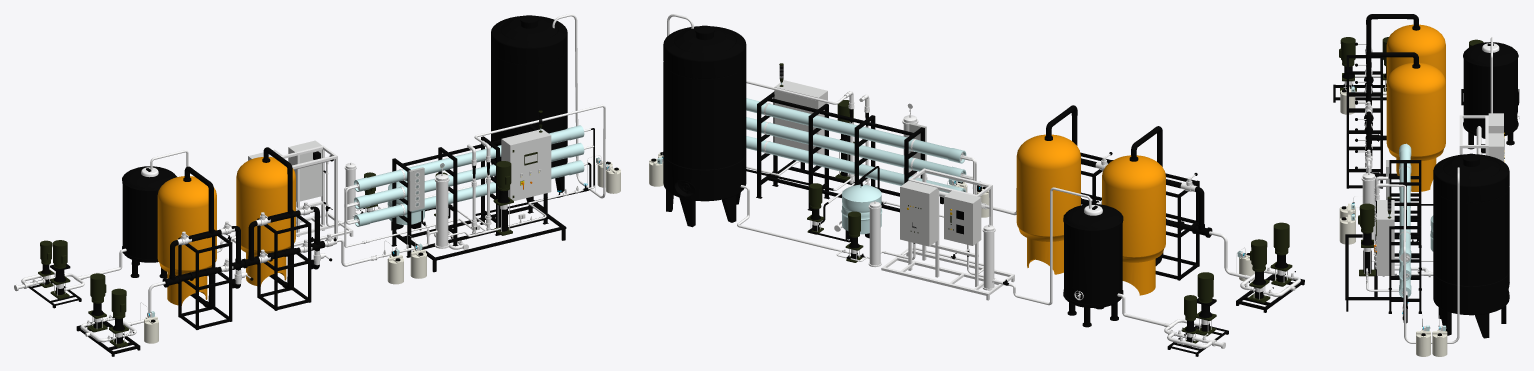
3 renders of one model, left to right at view 1: azimuth 30°, elevation 25°; view 2: azimuth 150°, elevation 25°; view 3: azimuth 270°, elevation 25°, orthographic. The views are drawn at different scales.
Visible parts, largest first — view 1: oil_tank, ro_tube, tank_8, tank_7, body, tank, ctrl_unit, stand_4, pipings, pipings_2, stand_3, pipes (+15 smaller); view 2: oil_tank, ro_tube, tank_7, tank_8, tank, body, stand, uv_control, uv_control_unit_2, ctrl_unit, pipes (×2), ro_tank (+14 smaller); view 3: oil_tank, tank_7, tank, body, tank_8, ro_tube, ctrl_unit, stand_3, Sweep_2_4, pipings, filter_pump_low_poly_1_2, pipings_2 (+18 smaller).
Boxes of the visible parts, <box> form: oil_tank: <box>491,15,567,167</box>; ro_tube: <box>346,125,594,226</box>; tank_8: <box>157,176,216,305</box>; tank_7: <box>236,157,295,286</box>; body: <box>391,125,566,272</box>; tank: <box>122,166,176,278</box>; ctrl_unit: <box>501,129,551,200</box>; stand_4: <box>178,229,232,329</box>; pipings: <box>241,147,325,289</box>; pipings_2: <box>162,166,245,309</box>; stand_3: <box>257,210,311,310</box>; pipes: <box>344,128,594,257</box>; oil_tank: <box>663,25,746,201</box>; ro_tube: <box>746,98,972,192</box>; tank_7: <box>1016,134,1080,274</box>; tank_8: <box>1102,155,1165,295</box>; tank: <box>1063,204,1123,327</box>; body: <box>756,91,943,212</box>; stand: <box>881,168,1014,300</box>; uv_control: <box>900,180,938,246</box>; uv_control_unit_2: <box>944,190,981,245</box>; ctrl_unit: <box>774,80,827,154</box>; pipes (×2): <box>746,155,1003,284</box>; ro_tank: <box>841,184,882,239</box>; oil_tank: <box>1433,153,1509,315</box>; tank_7: <box>1386,63,1445,191</box>; tank: <box>1463,42,1518,149</box>; body: <box>1345,160,1421,313</box>; tank_8: <box>1386,24,1445,81</box>; ro_tube: <box>1399,144,1411,297</box>; ctrl_unit: <box>1374,200,1394,275</box>; stand_3: <box>1346,93,1382,188</box>; Sweep_2_4: <box>1388,167,1459,343</box>; pipings: <box>1364,52,1420,178</box>; filter_pump_low_poly_1_2: <box>1358,203,1375,276</box>; pipings_2: <box>1364,14,1420,141</box>.
Size of what is drawn, in the model's own units: 21.97 by 6.48 by 6.33.
